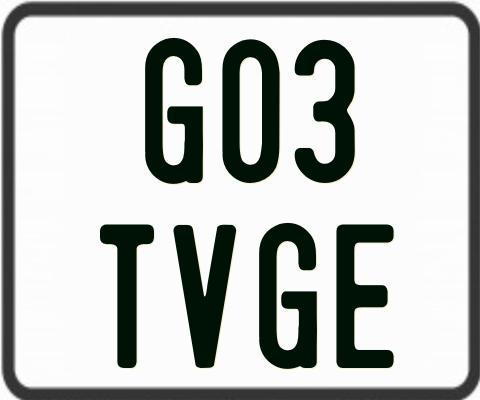0: (219, 36, 280, 185)
3: (292, 39, 358, 185)
E: (336, 225, 396, 373)
G: (145, 36, 208, 188), (257, 223, 320, 370)
T: (97, 224, 151, 369)
V: (173, 225, 240, 369)
